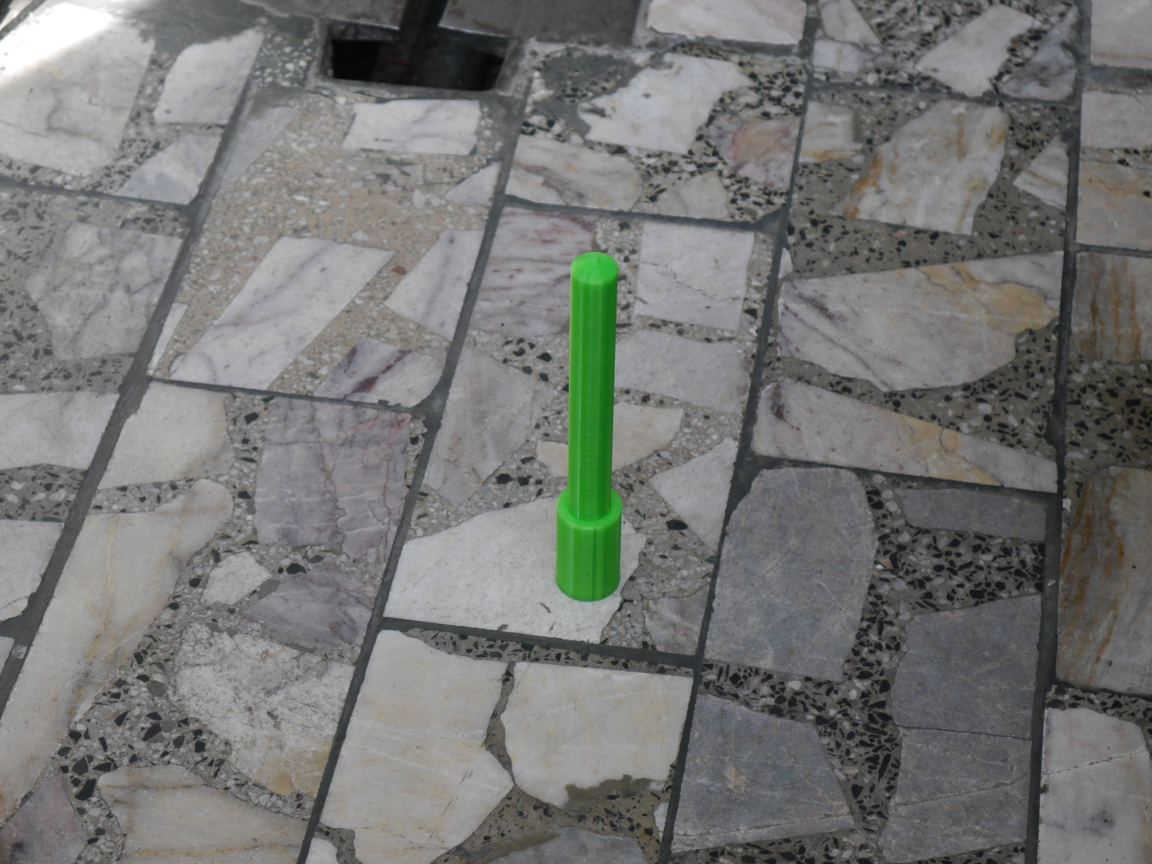cargo_g: (552, 252, 619, 604)
